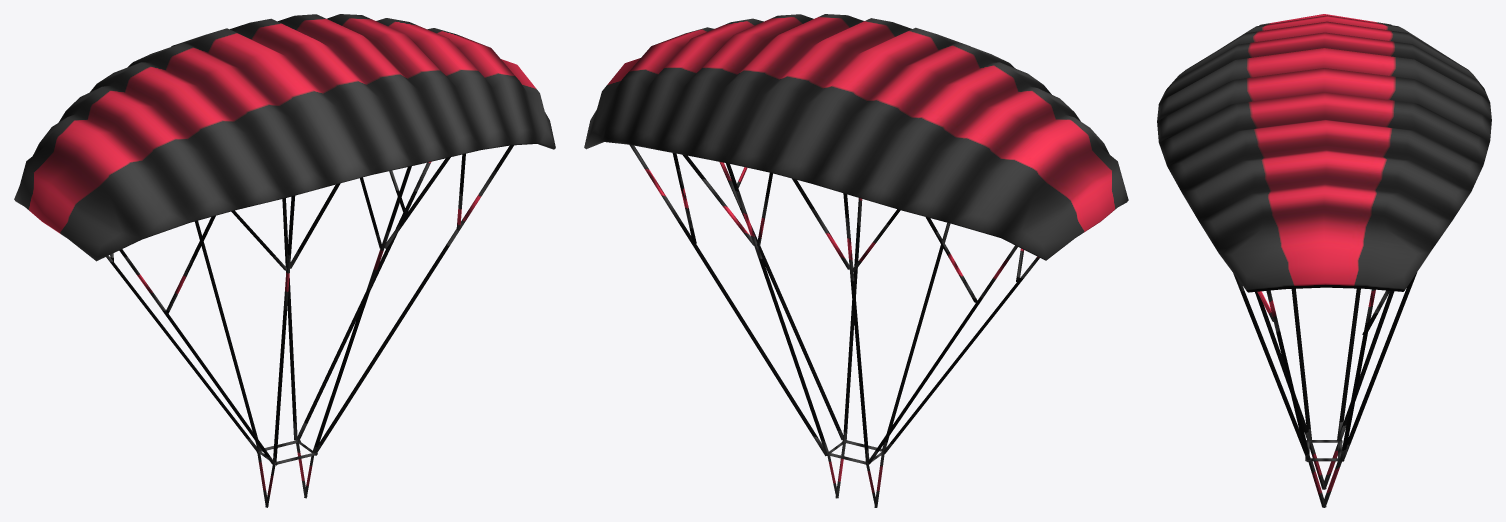
The model's file is parachute.FBX.
3 views of the same model, side by side, from view 1: azimuth 30°, elevation 25°; view 2: azimuth 150°, elevation 25°; view 3: azimuth 270°, elevation 25° (orthographic). The views are drawn at different scales.
Visible parts, largest first — view 1: Box002; view 2: Box002; view 3: Box002.
Boxes of the visible parts, x1,y1,x2,y2 form: Box002: (14,14,555,507); Box002: (584,14,1128,507); Box002: (1157,14,1491,507).
Bounding box in the file's own units: 280 × 245 × 171.
1 material, 1 textured.
